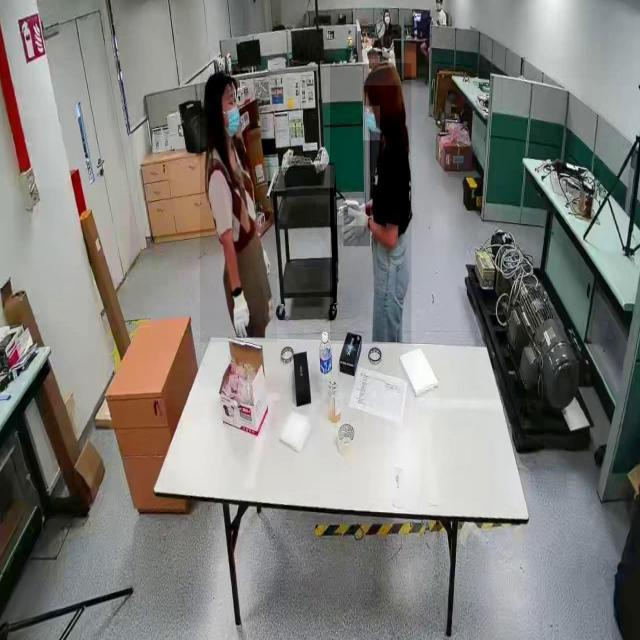face_mask: (223, 100, 243, 136), (363, 106, 380, 140)
hand_glove: (225, 286, 257, 340), (344, 205, 371, 247), (337, 198, 365, 226)
head_nohelmet: (363, 59, 401, 86), (201, 69, 237, 88), (383, 9, 389, 12)
person: (330, 63, 412, 345), (200, 71, 278, 343)
